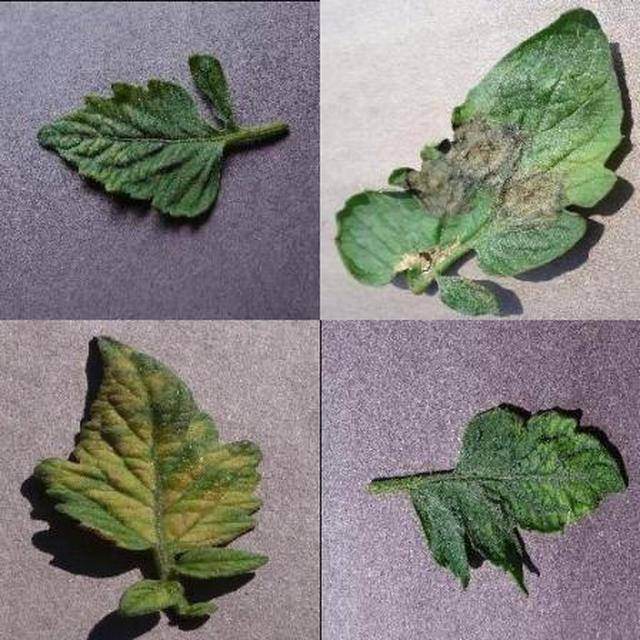Mosaic Virus Leaf: (192, 196, 640, 640)
